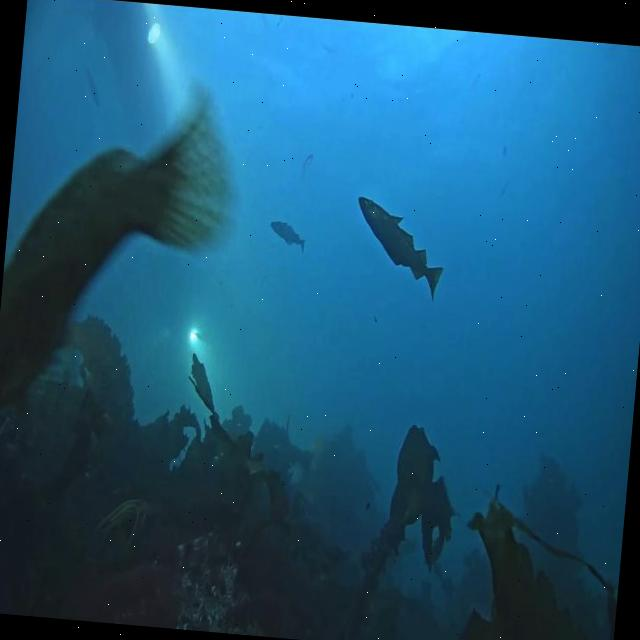fish: (0, 67, 250, 430), (348, 194, 448, 305), (267, 220, 307, 253), (82, 65, 100, 102), (299, 151, 312, 185)
